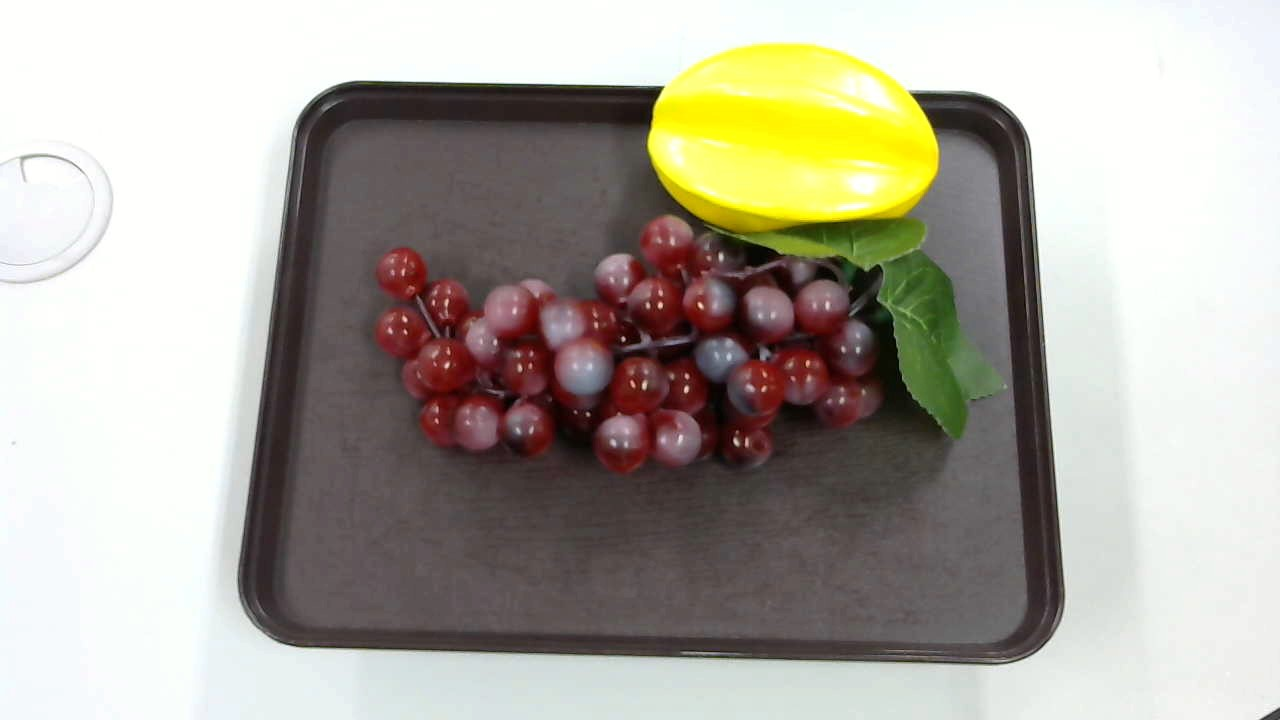grape: (369, 212, 1010, 485)
star fruit: (646, 47, 942, 242)
